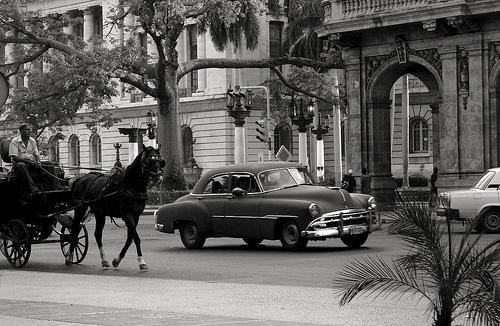car: (150, 162, 375, 252), (436, 168, 500, 234)
